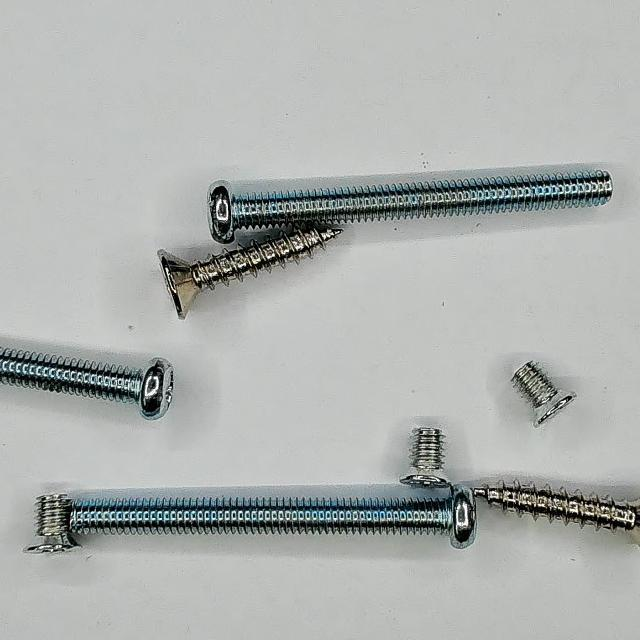Screw: (208, 164, 614, 244), (69, 487, 477, 550), (158, 229, 342, 318), (0, 348, 173, 420), (474, 482, 640, 530), (513, 362, 578, 428), (24, 494, 77, 554), (401, 427, 451, 488)
